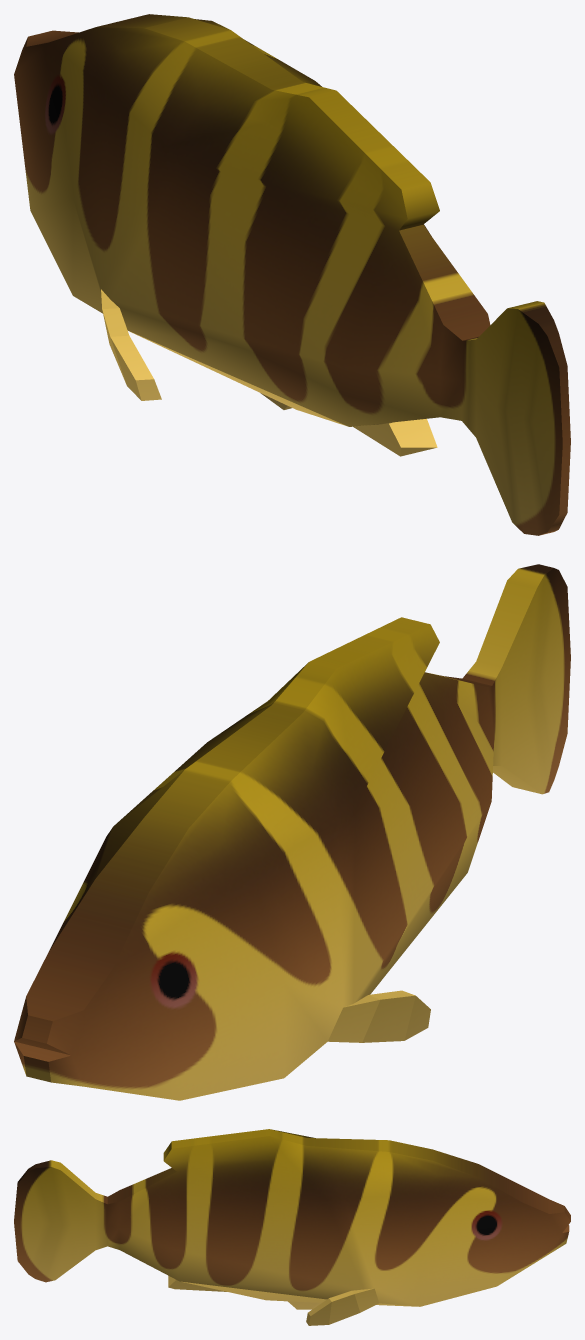
Rendered from treeFish.fbx.
3 views of the same model, one above another, from view 1: azimuth 30°, elevation 25°; view 2: azimuth 150°, elevation 25°; view 3: azimuth 270°, elevation 25° (orthographic). The views are drawn at different scales.
Visible parts, largest first — view 1: TreeFish; view 2: TreeFish; view 3: TreeFish.
Part boxes in pixels (x1,y1,x2,y2): TreeFish: [14, 14, 570, 535]; TreeFish: [14, 564, 570, 1100]; TreeFish: [14, 1129, 570, 1325].
Size of the model in its own units: 0.4487 by 0.4668 by 1.35.
